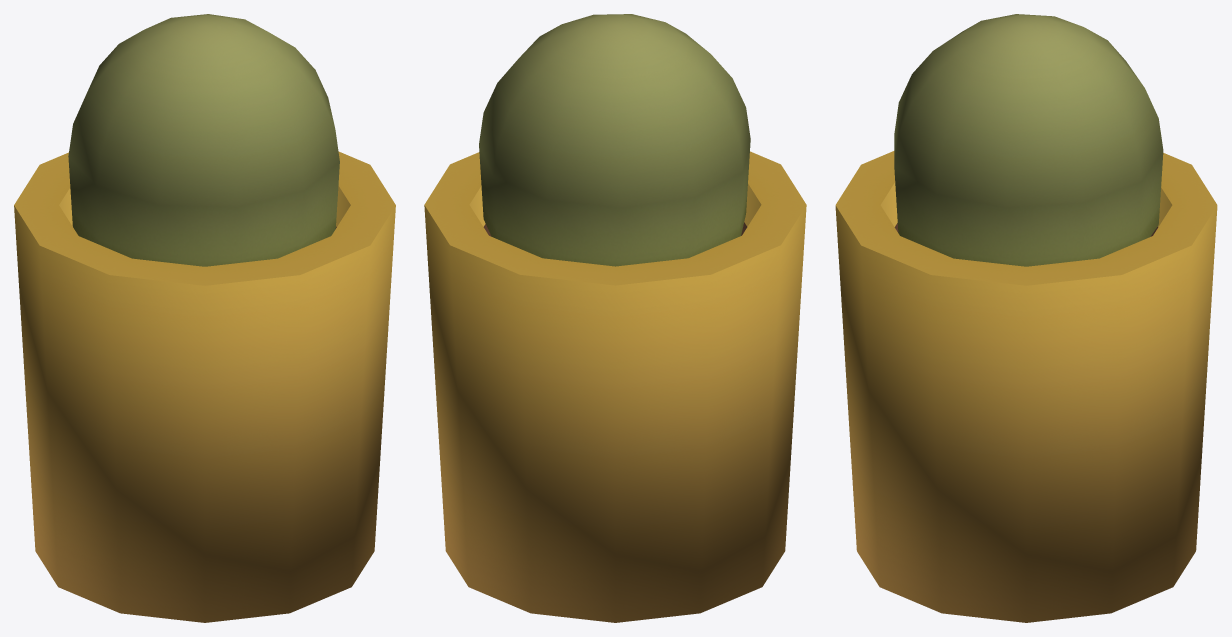
File: Cactus.fbx
The picture shows the model from 3 angles, left to right: view 1: azimuth 30°, elevation 25°; view 2: azimuth 150°, elevation 25°; view 3: azimuth 270°, elevation 25°; orthographic projection.
Parts seen in each view (by area): view 1: Cylinder; view 2: Cylinder; view 3: Cylinder.
Boxes of the visible parts, bbox=[...] form: Cylinder: bbox=[14, 14, 395, 622]; Cylinder: bbox=[424, 14, 806, 622]; Cylinder: bbox=[835, 14, 1217, 622].
Bounding box in the file's own units: 200 × 303 × 200.
